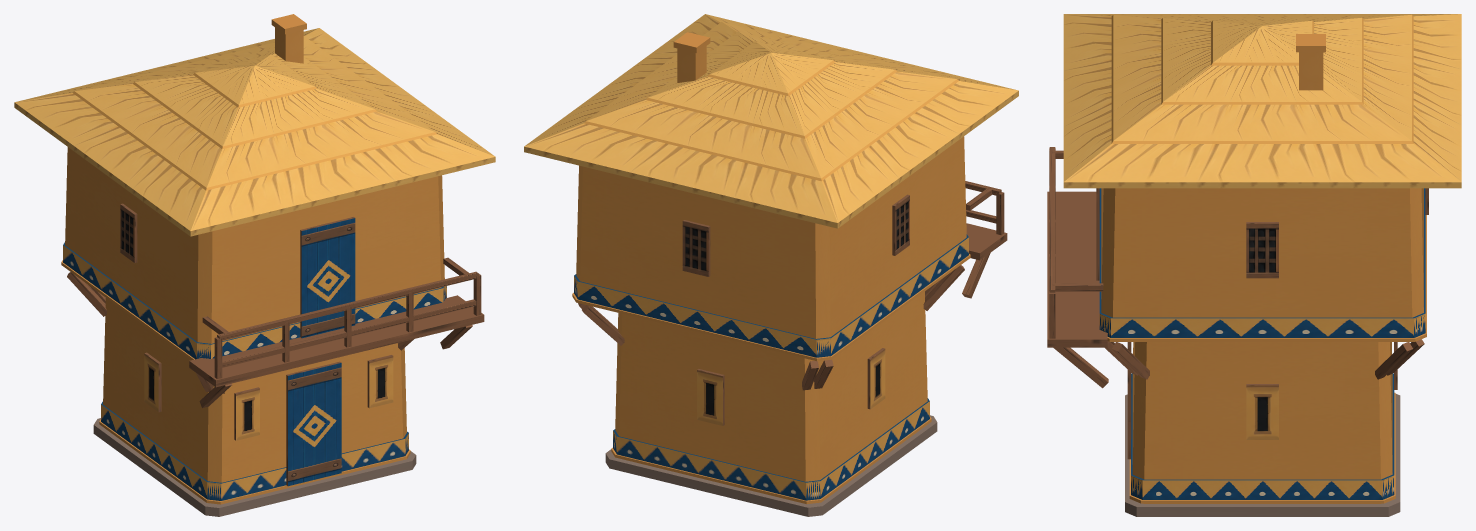
Rendered from SM_RC_MudHut_Square_2F_Overhang.gltf.
3 views of the same model, side by side, from view 1: azimuth 30°, elevation 25°; view 2: azimuth 150°, elevation 25°; view 3: azimuth 270°, elevation 25° (orthographic). The views are drawn at different scales.
Visible parts, largest first — view 1: SM_RC_WA_MudHut_Square_2F_Overhang_RoofFixed; view 2: SM_RC_WA_MudHut_Square_2F_Overhang_RoofFixed; view 3: SM_RC_WA_MudHut_Square_2F_Overhang_RoofFixed.
Boxes of the visible parts, <box> form: SM_RC_WA_MudHut_Square_2F_Overhang_RoofFixed: <box>14,14,495,516</box>; SM_RC_WA_MudHut_Square_2F_Overhang_RoofFixed: <box>524,14,1018,516</box>; SM_RC_WA_MudHut_Square_2F_Overhang_RoofFixed: <box>1047,14,1461,516</box>.
Size of the model in its own units: 8.24 by 10.27 by 8.57.
Materials: 1 (1 with a texture image).
